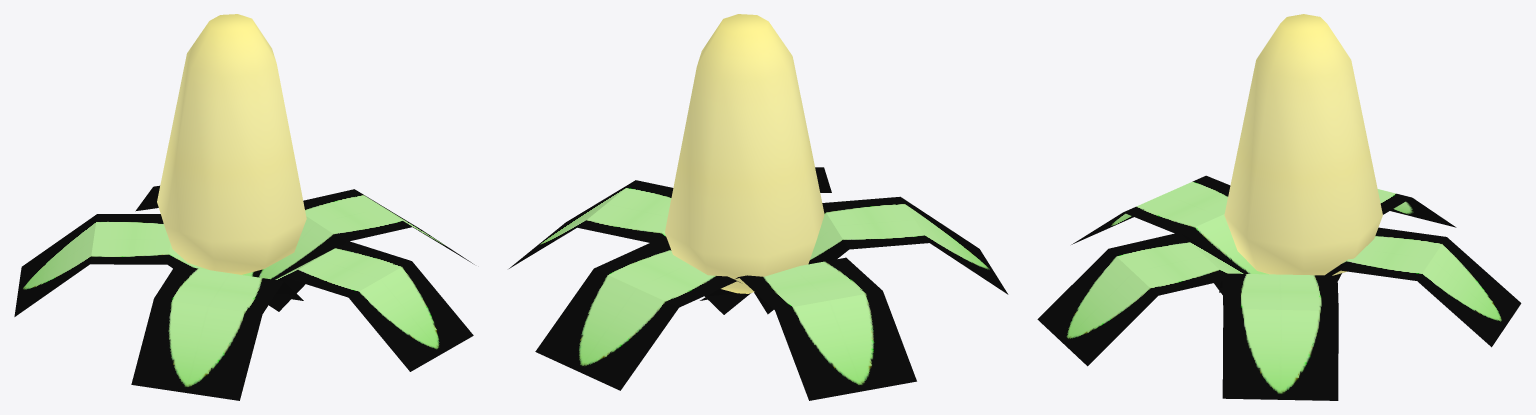
File: korn.glb
The picture shows the model from 3 angles, left to right: view 1: azimuth 30°, elevation 25°; view 2: azimuth 150°, elevation 25°; view 3: azimuth 270°, elevation 25°; orthographic projection. The views are drawn at different scales.
Parts seen in each view (by area): view 1: Corn.001; view 2: Corn.001; view 3: Corn.001.
Part boxes in pixels (x1=…): Corn.001: x1=14, y1=14, x2=474, y2=400; Corn.001: x1=509, y1=14, x2=1008, y2=400; Corn.001: x1=1037, y1=14, x2=1521, y2=400.
Size of the model in its own units: 1.35 by 0.871 by 1.39.
1 material, 1 textured.
